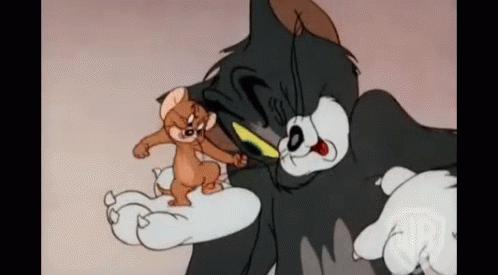jerry: (131, 85, 249, 208)
